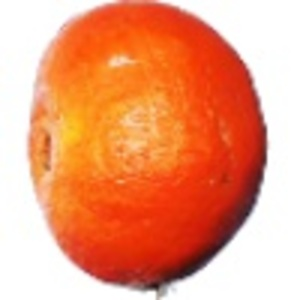tangerina: (26, 1, 272, 300)
